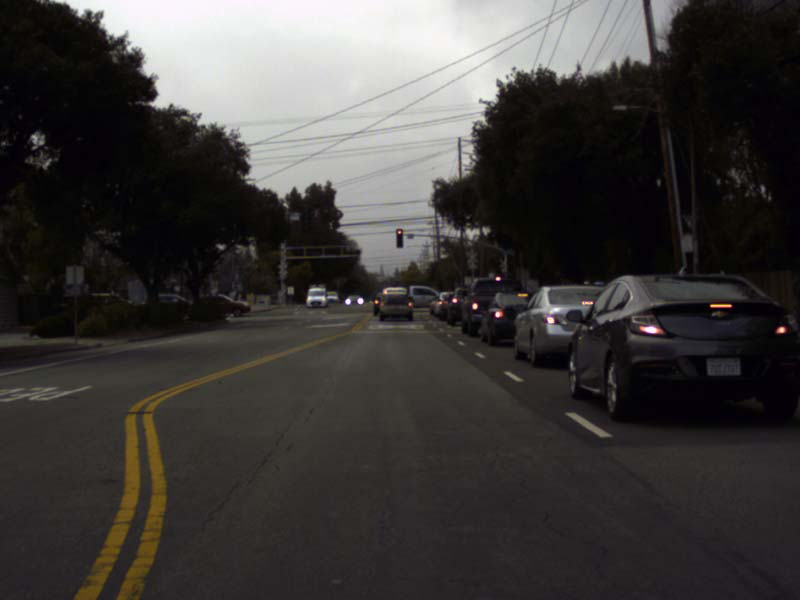Red: (396, 228, 403, 248)
